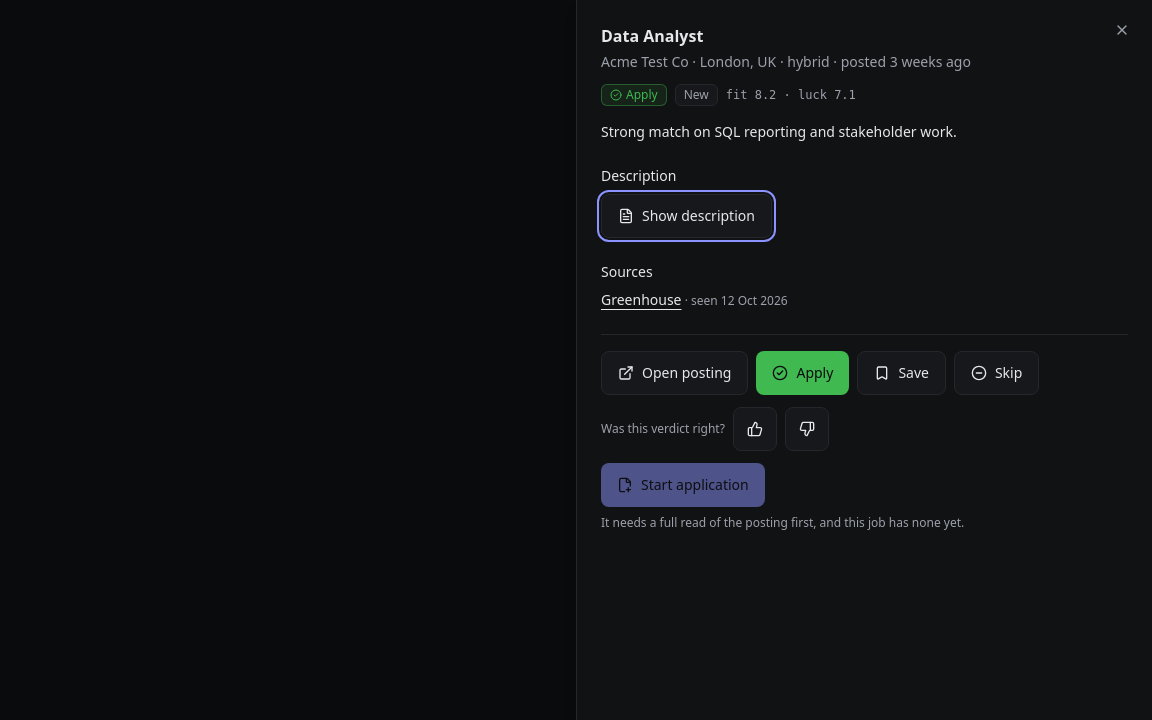
it: JobDetail › rolls the job back in the page and shows the error when an action is refused
What coordinates should you click on to do the following:
click the button "Save"
I would click on:
 (902, 373)
Its box is [857,351,946,395].
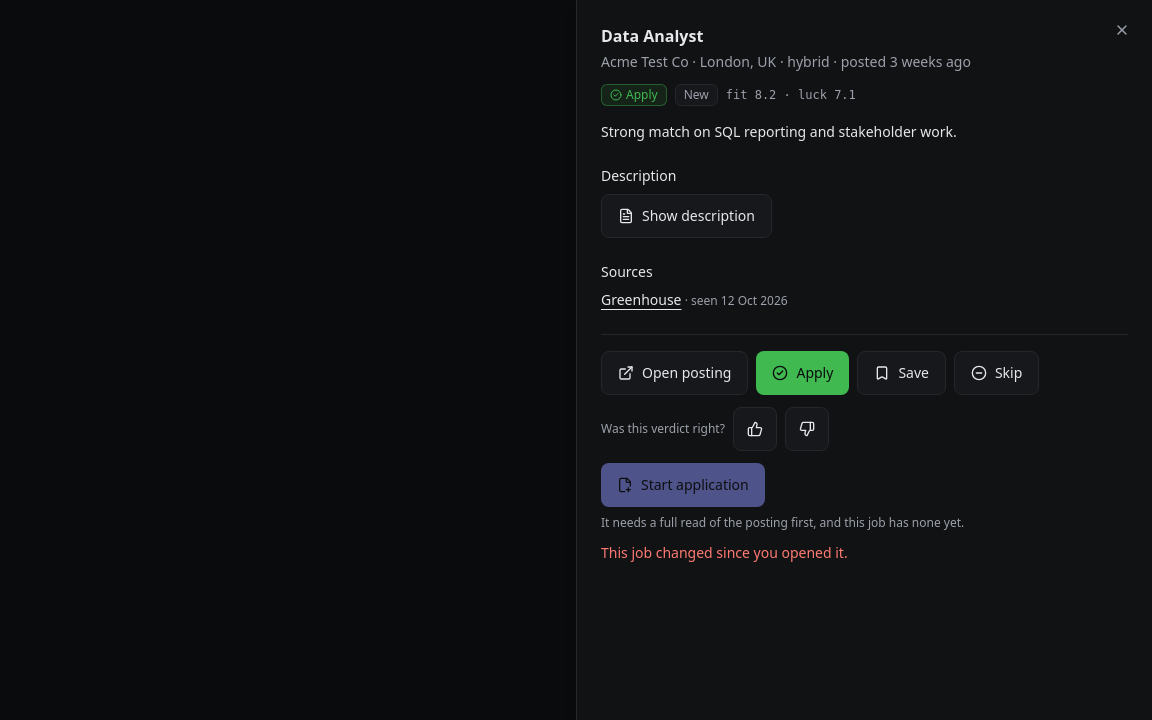
Now the message shows "changed", box [601,543,848,562]
